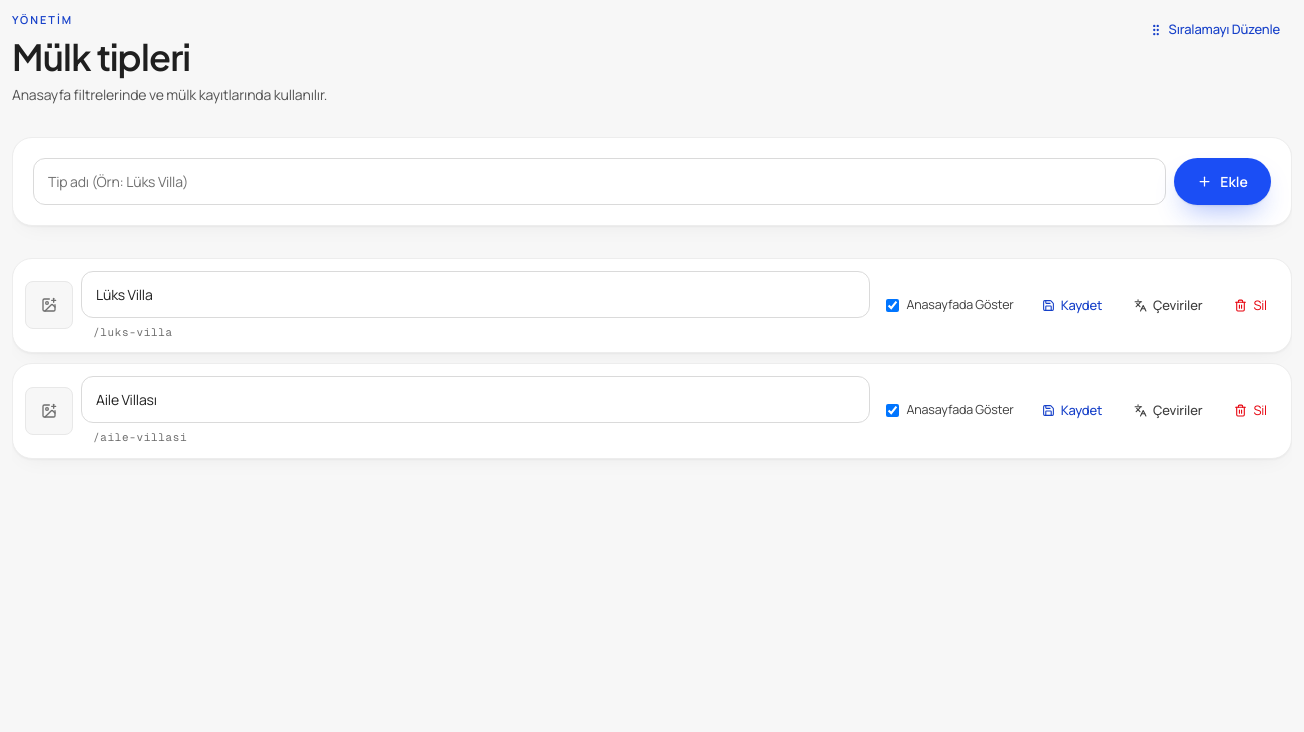
TypesPage — Phase 10D Batch 3 — mevcut çeviri yükleme + kaydet › 9) Mevcut EN/DE çevirileri input'a yüklenir
Click the button with aria-label "çevirileri": x=1168, y=305 [1122,288,1214,323]
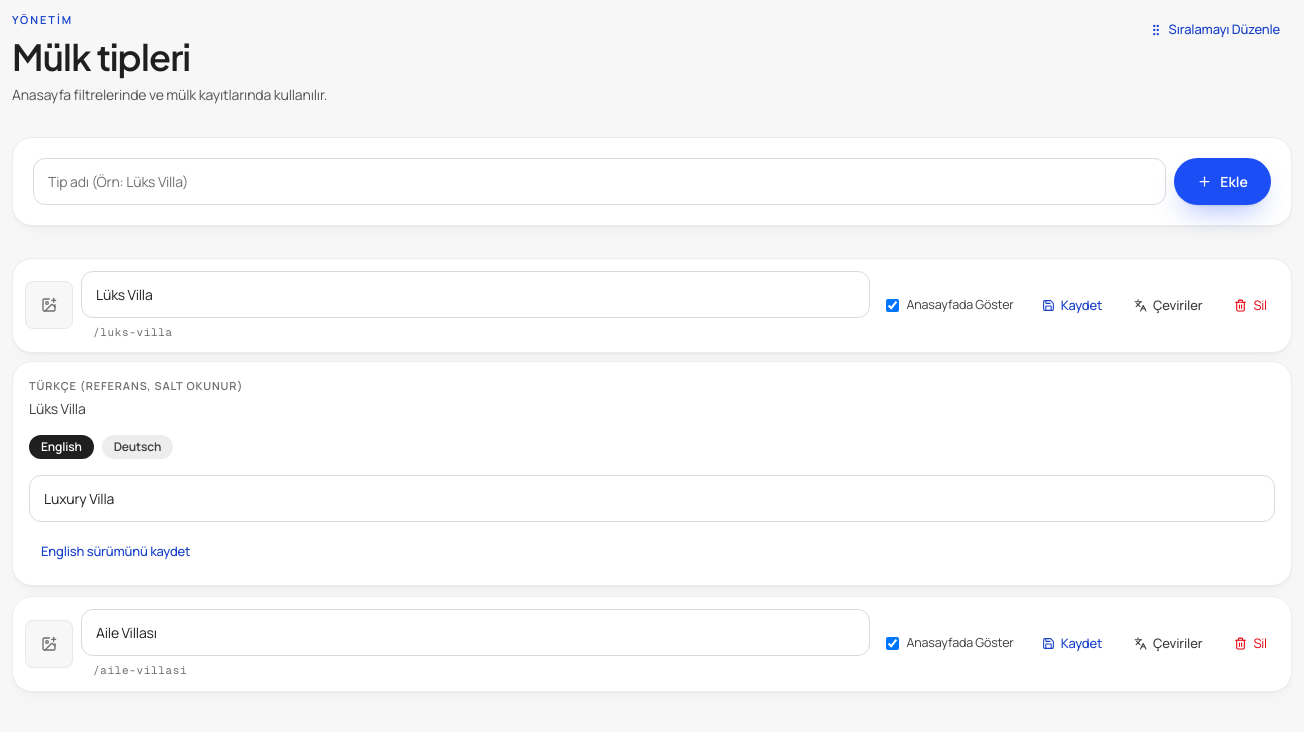
Expected: the field named "English" holds "Luxury Villa", [29,474,1275,522]
Click the button "Deutsch": x=137, y=446 [102,434,173,458]
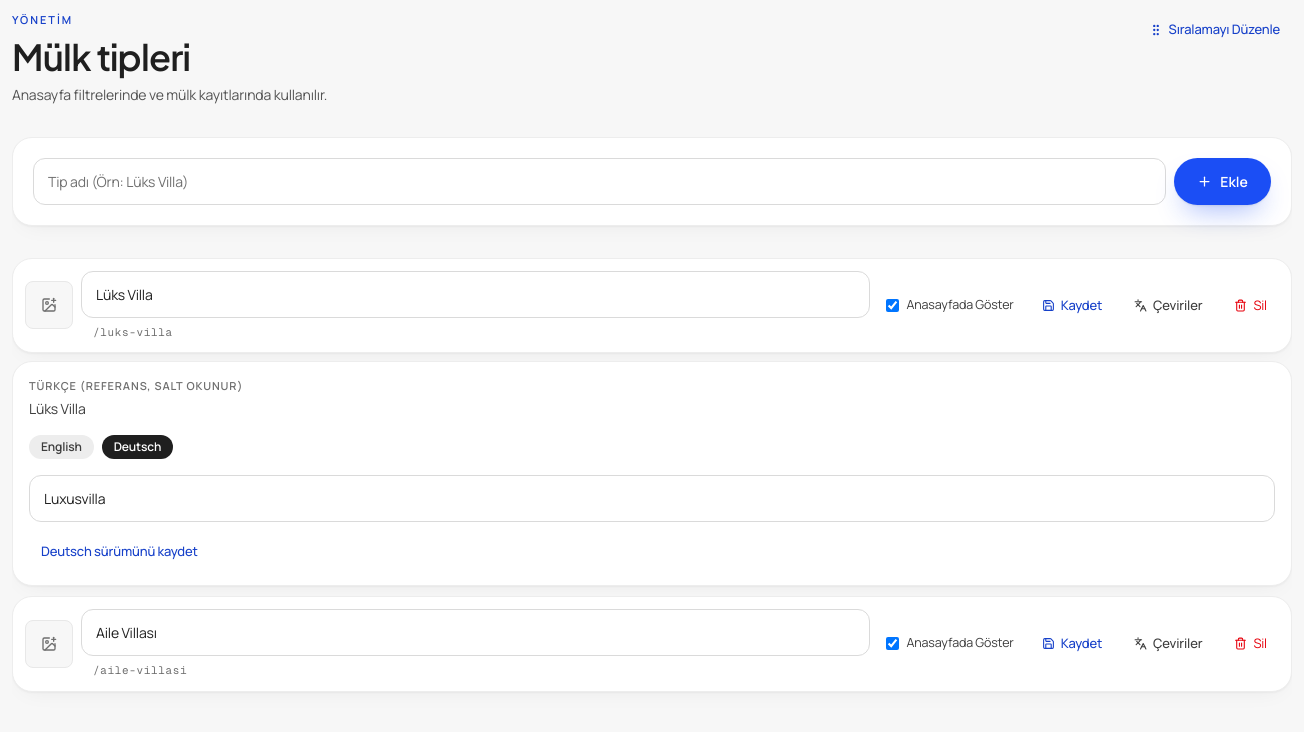
Expected: the field named "Deutsch" holds "Luxusvilla", [29,474,1275,522]
